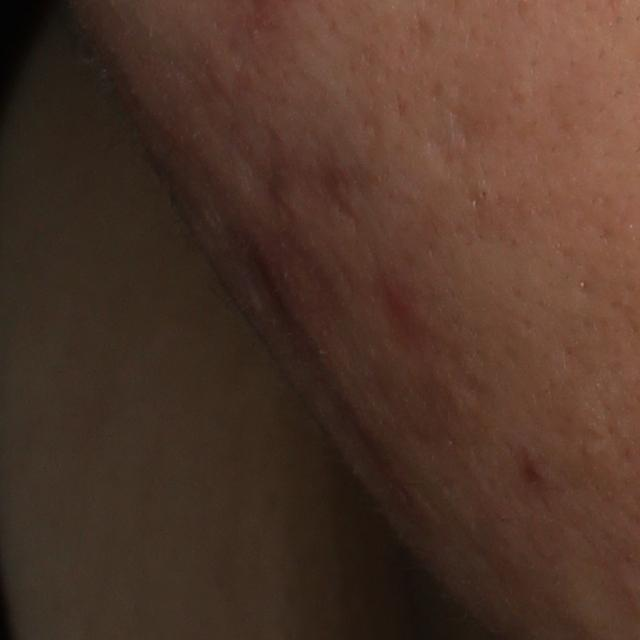papule: (379, 282, 417, 319)
